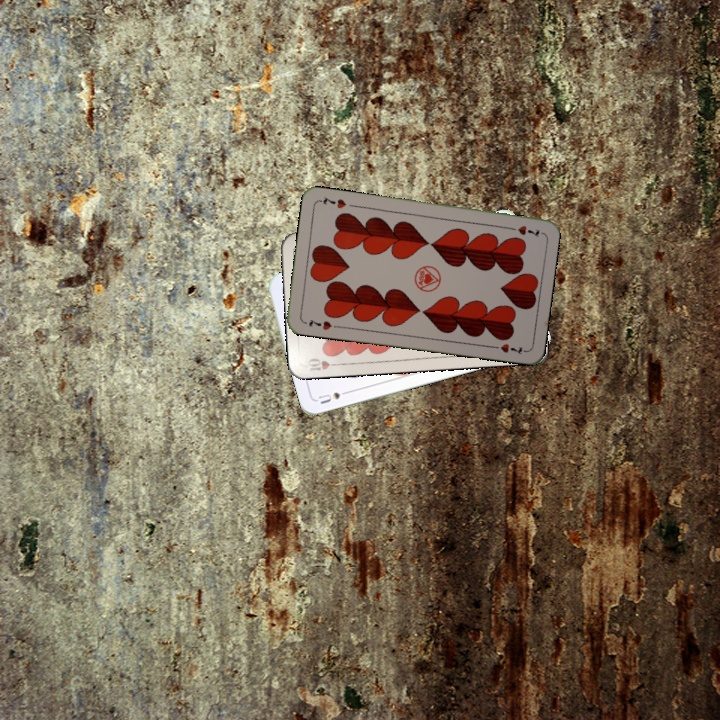H10: (303, 354, 344, 374)
H7: (503, 221, 542, 239), (305, 315, 334, 333)
SU: (314, 386, 354, 407)
